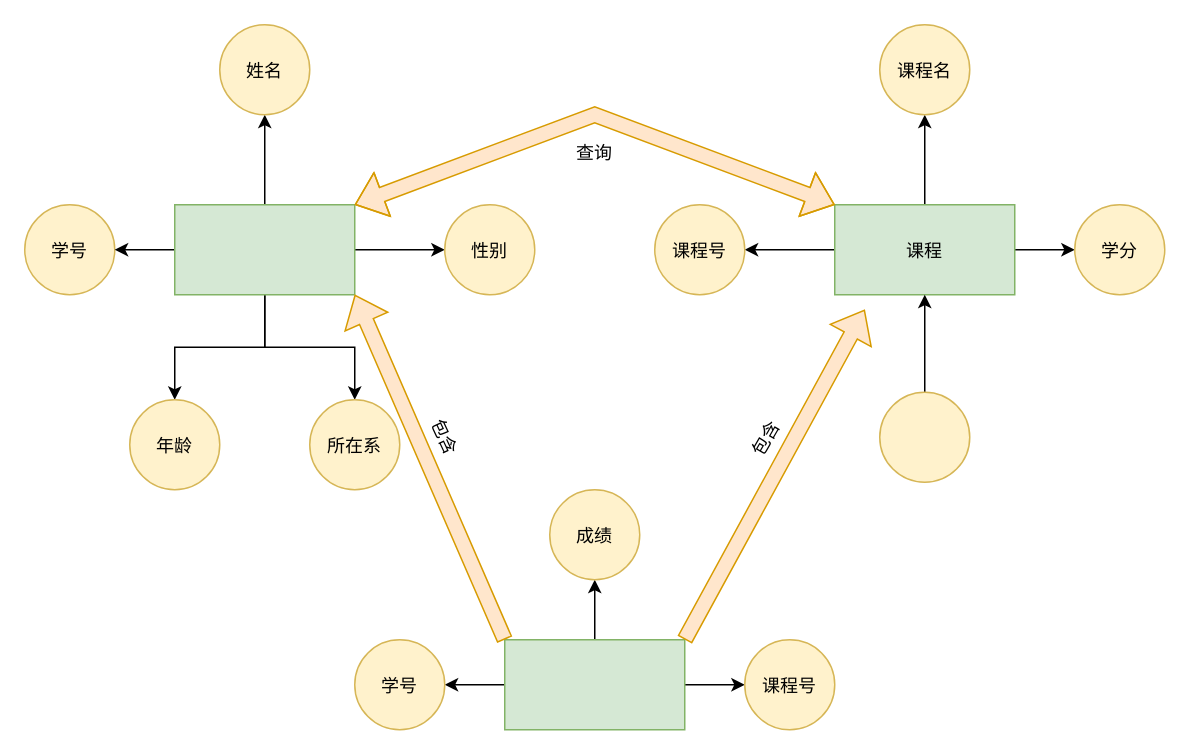
Image size: 1190x755. Some labels were removed from this diagram. The centre of each missing label's shape, as x and y in pixels:
"先行课" belongs at point 924,436.
"学生信息" belongs at point 264,249.
"选修" belongs at point 594,684.
